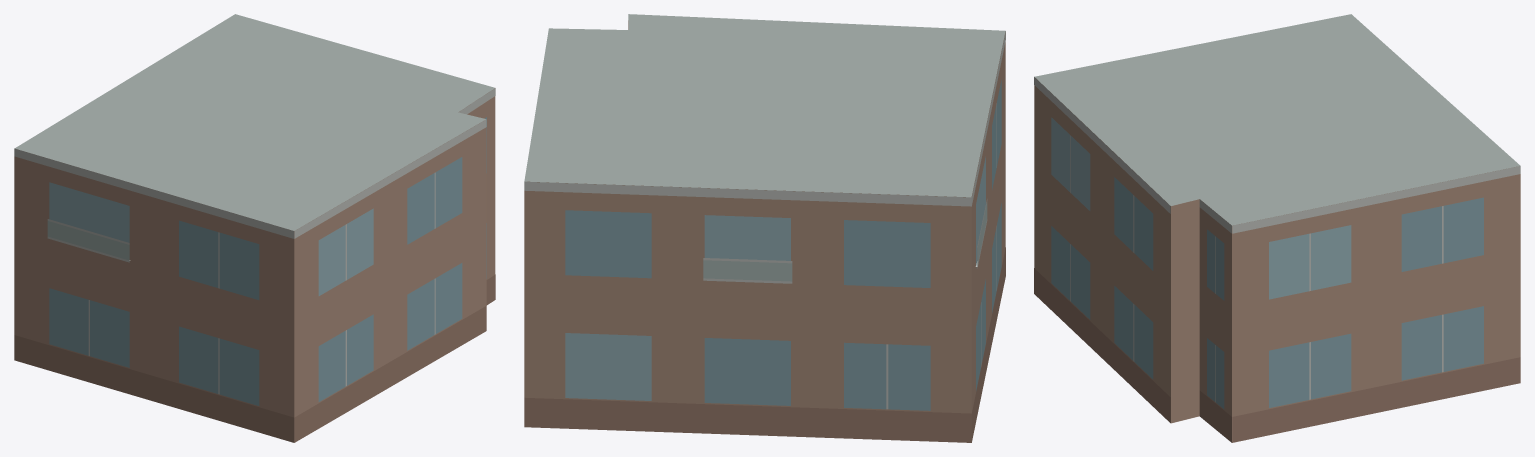
The model's file is survey-upis-32903940.glb.
3 views of the same model, side by side, from view 1: azimuth 30°, elevation 25°; view 2: azimuth 150°, elevation 25°; view 3: azimuth 270°, elevation 25° (orthographic). The views are drawn at different scales.
Parts seen in each view (by area): view 1: survey-upis-32903940.tmp; view 2: survey-upis-32903940.tmp; view 3: survey-upis-32903940.tmp.
Part boxes in pixels (left/top/right/bottom): survey-upis-32903940.tmp: left=14, top=14, right=495, bottom=442; survey-upis-32903940.tmp: left=524, top=14, right=1005, bottom=442; survey-upis-32903940.tmp: left=1034, top=14, right=1520, bottom=442.
Bounding box in the file's own units: 13.59 × 6.5 × 13.2.
